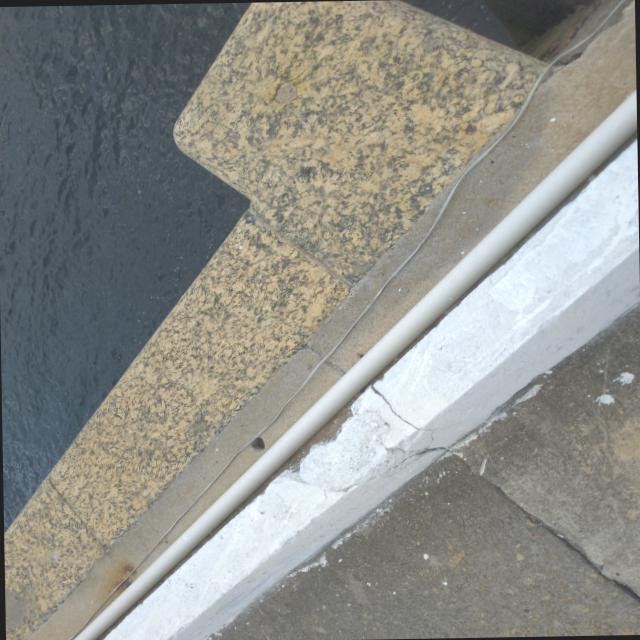gas: (69, 103, 637, 640)
